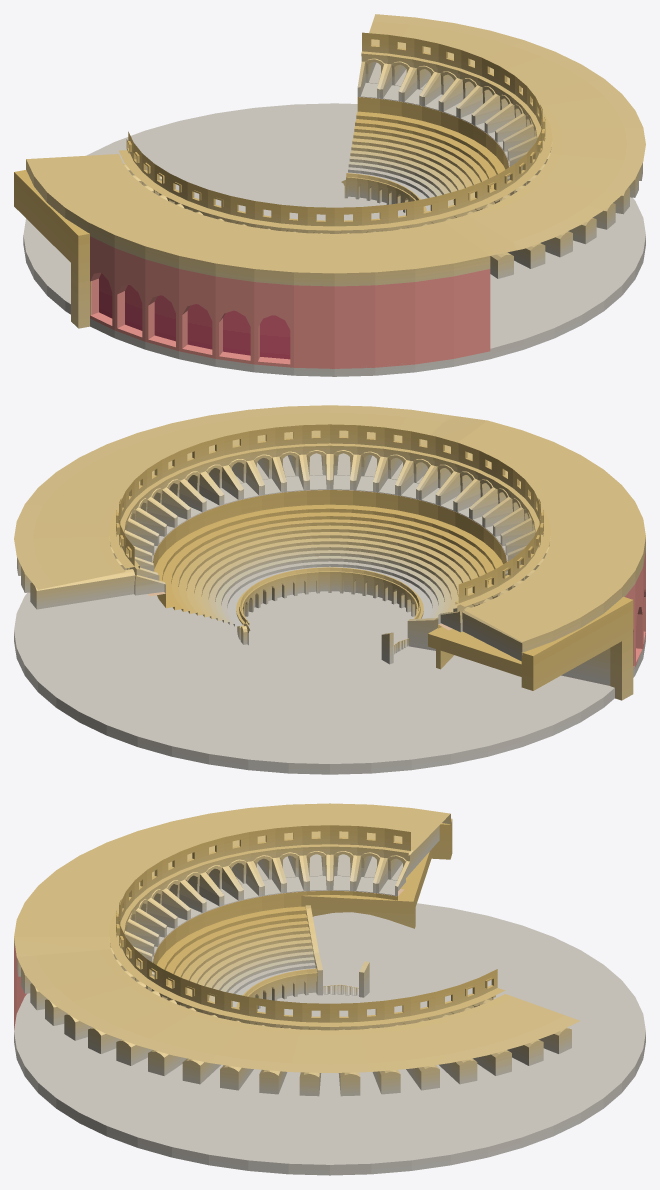
Rendered from Colosseum4.fbx.
The picture shows the model from 3 angles, top to bottom: view 1: azimuth 30°, elevation 25°; view 2: azimuth 150°, elevation 25°; view 3: azimuth 270°, elevation 25°; orthographic projection.
Parts seen in each view (by area): view 1: Colosseum; view 2: Colosseum; view 3: Colosseum.
Part boxes in pixels (x1=…): Colosseum: x1=14, y1=14, x2=645, y2=376; Colosseum: x1=14, y1=405, x2=645, y2=774; Colosseum: x1=14, y1=803, x2=645, y2=1175.
Bounding box in the file's own units: 21974 × 4821 × 21652.
